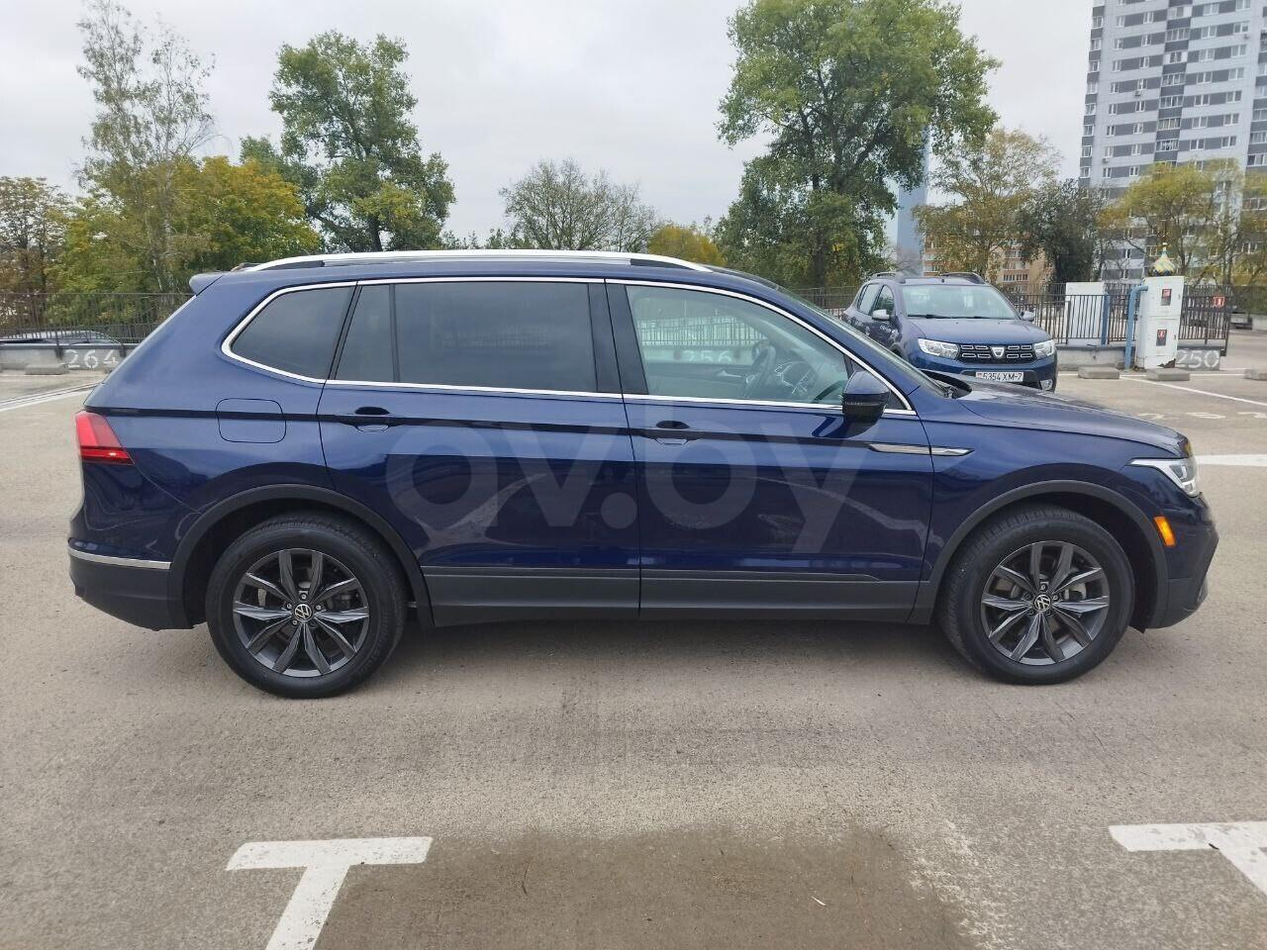Tiguan_2020-2024: (69, 247, 1215, 703)
